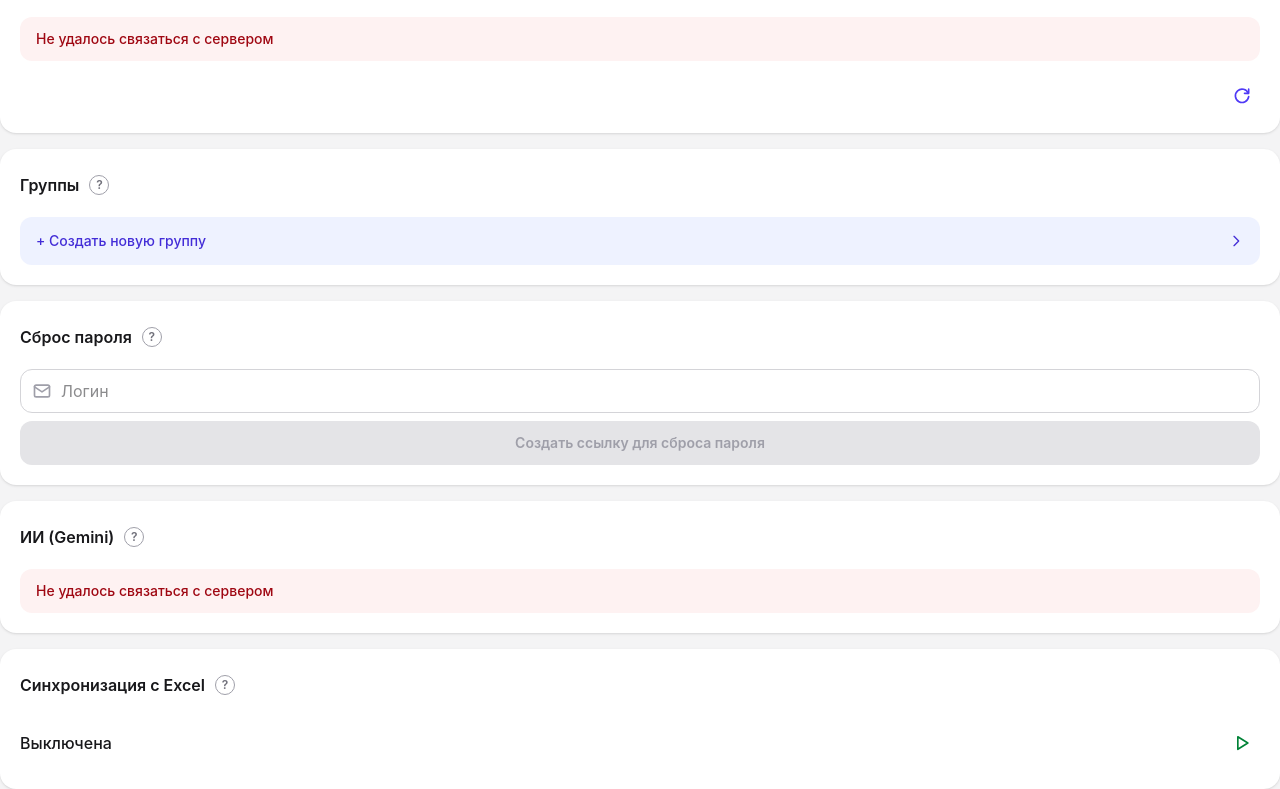
Test: раздел «Синхронизация с Excel» › ошибка 409 показывается сообщением сервера
(page scrolled)
Check: the heading "Синхронизация с Excel" is shown, box x1=20 y1=673 x2=205 y2=697
Check: the text "Выключена" is shown, box x1=20 y1=733 x2=112 y2=753
What coordinates should you click on to do the following:
click the button named "Включить синхронизацию"
I would click on:
 (1242, 743)
Its box is x1=1224 y1=725 x2=1260 y2=761.
(page scrolled)
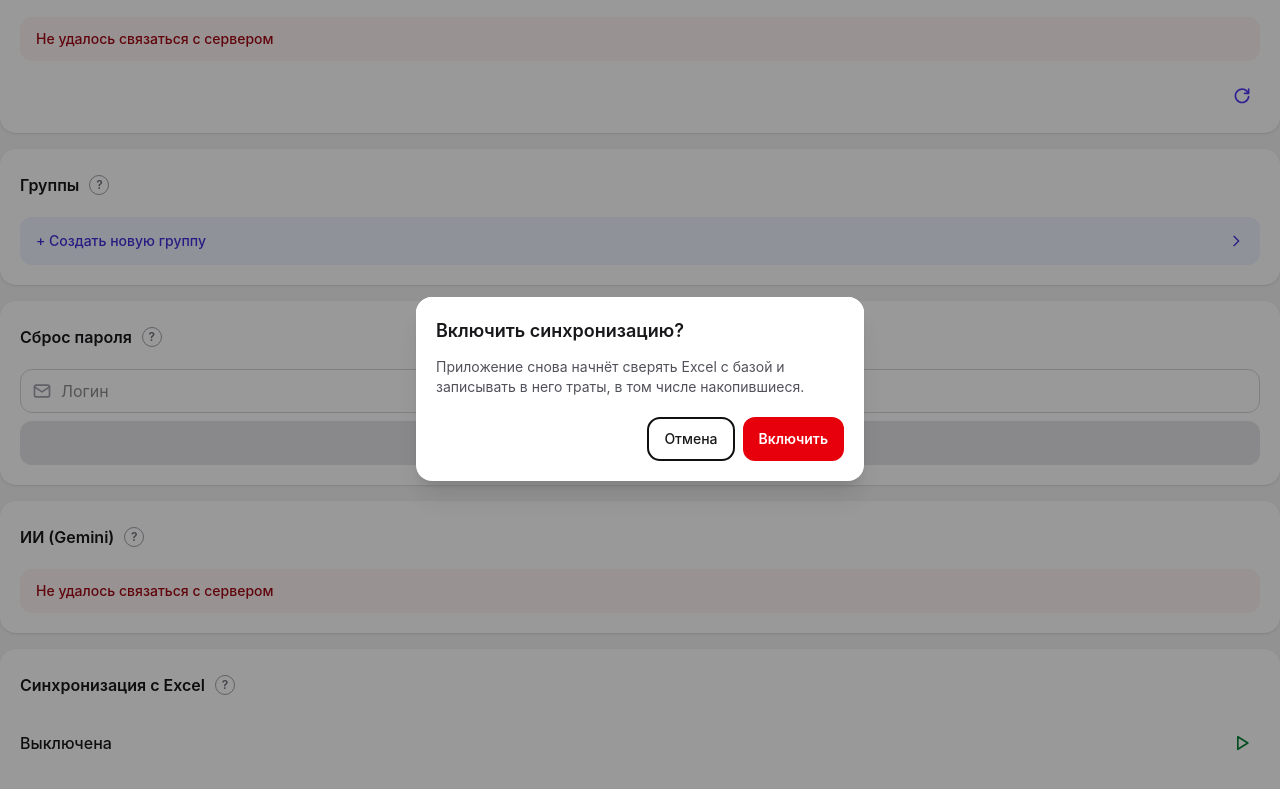
What coordinates should you click on to do the following:
click the button "Включить"
I would click on:
 (793, 439)
Its box is x1=743 y1=417 x2=844 y2=461.
(page scrolled)
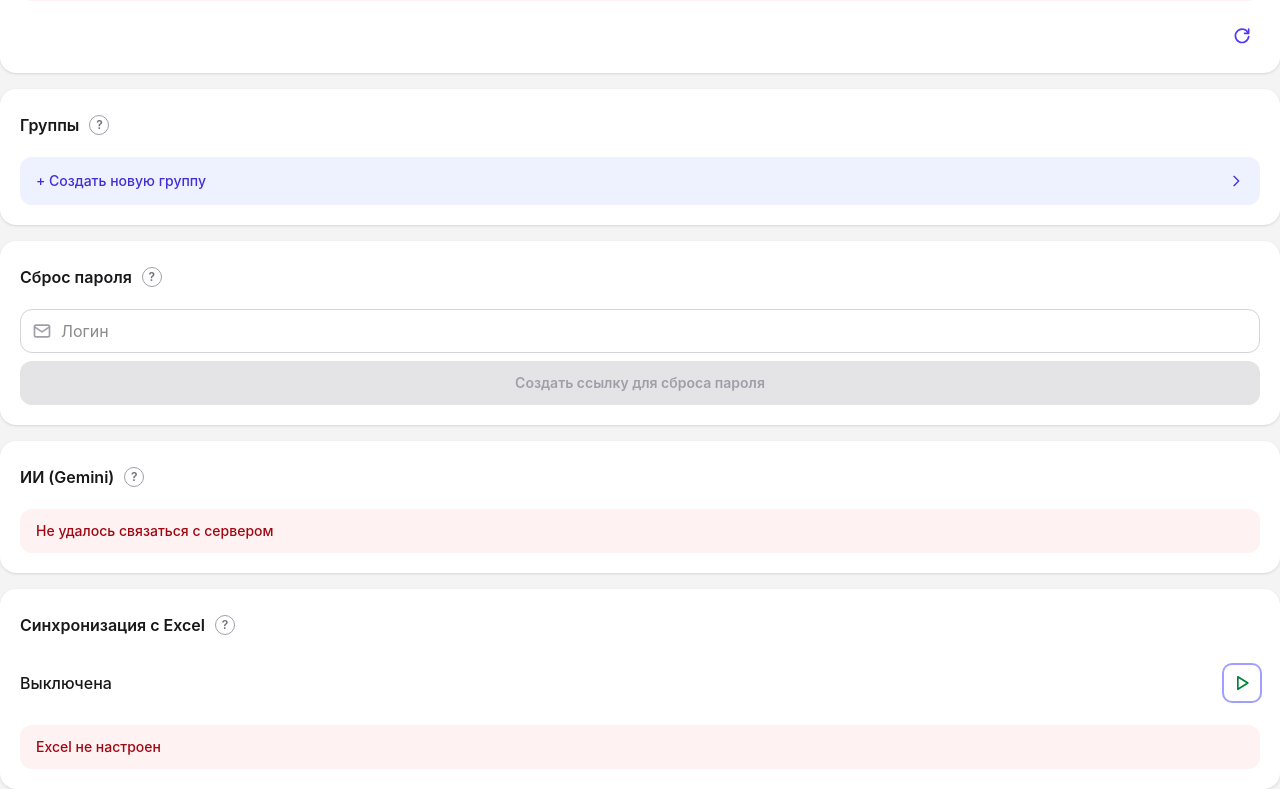
Check: the message "Excel не настроен" is shown, box x1=20 y1=725 x2=1260 y2=769
